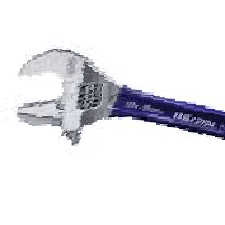Wrench: (15, 38, 225, 172)
